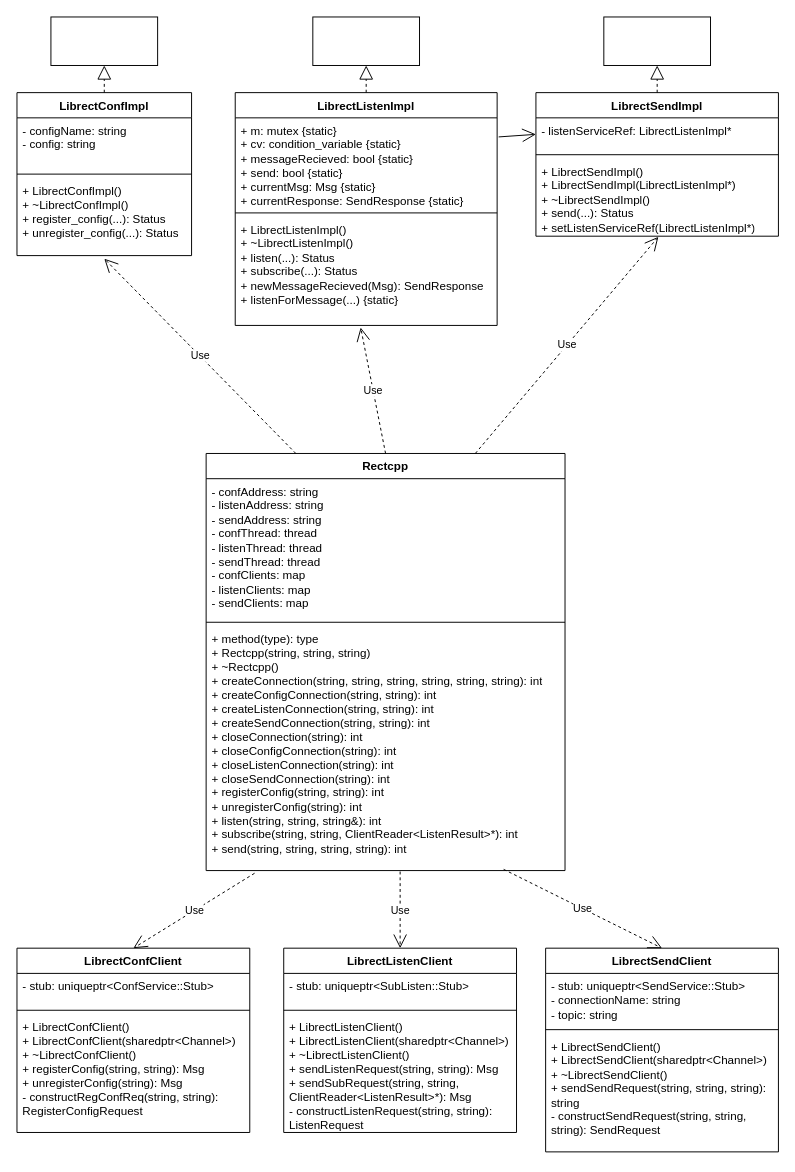
Some shapes in this 795 by 1172 pixel diagram are drawn without their labels. The centre of each missing label's shape, as x and y in pixels:
"«interface» ConfigService" belongs at [104,40].
"«interface» SendService" belongs at [657,40].
"«interface» SubListen" belongs at [366,40].
